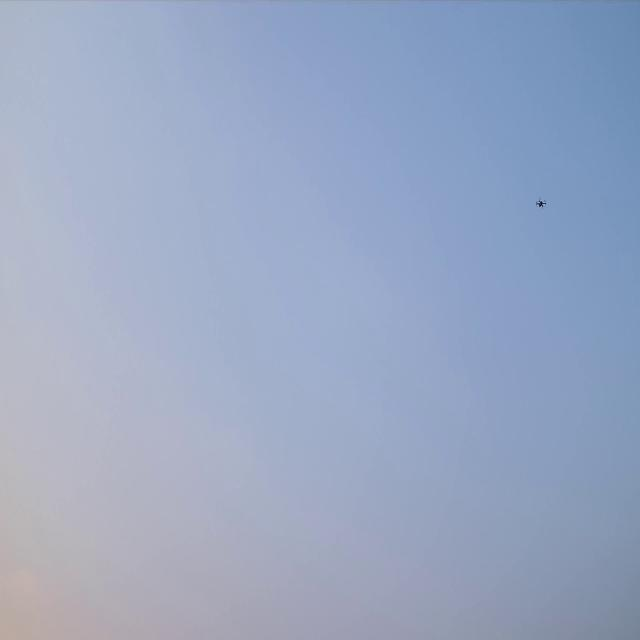UAV: (535, 197, 548, 209)
